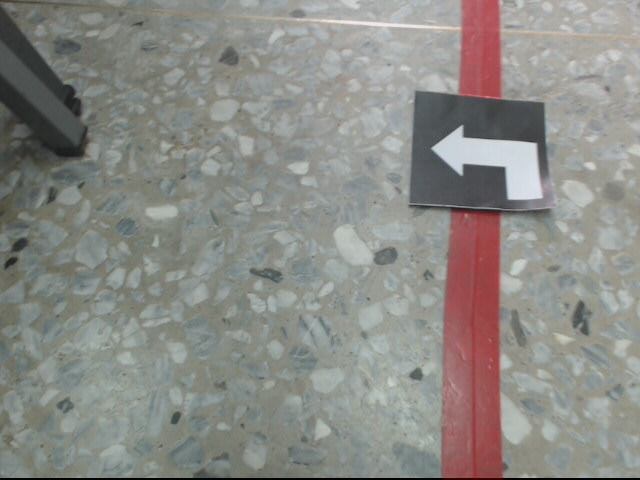left: (409, 90, 555, 215)
